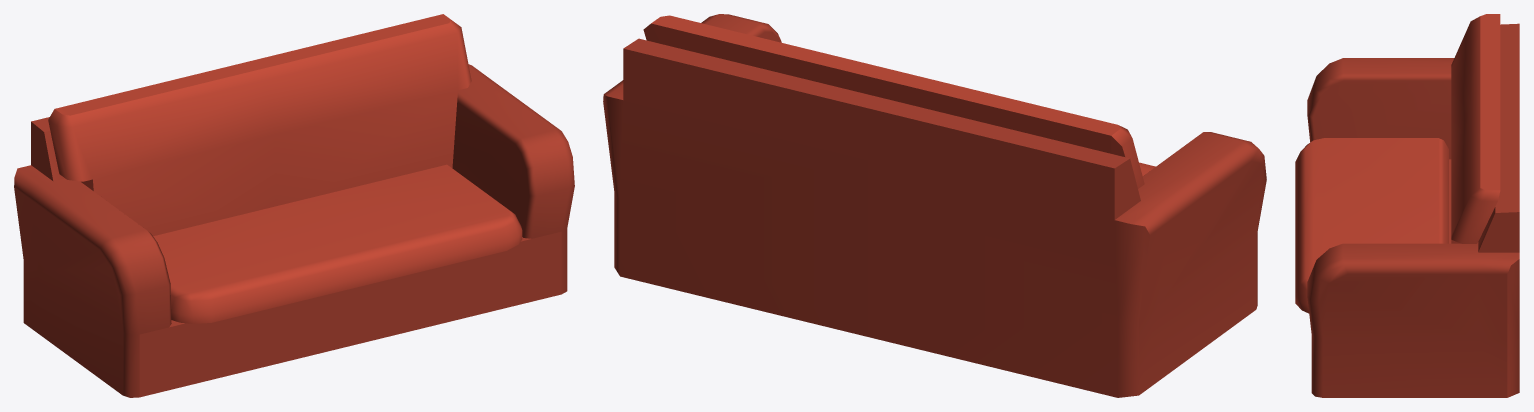
Rendered from Divano.fbx.
3 views of the same model, side by side, from view 1: azimuth 30°, elevation 25°; view 2: azimuth 150°, elevation 25°; view 3: azimuth 270°, elevation 25° (orthographic). The views are drawn at different scales.
Parts seen in each view (by area): view 1: Divano; view 2: Divano; view 3: Divano.
Part boxes in pixels (left/top/right/bottom): Divano: left=14, top=14, right=574, bottom=397; Divano: left=603, top=14, right=1266, bottom=397; Divano: left=1295, top=14, right=1519, bottom=397.
Size of the model in its own units: 2.09 by 0.9064 by 0.9424.
